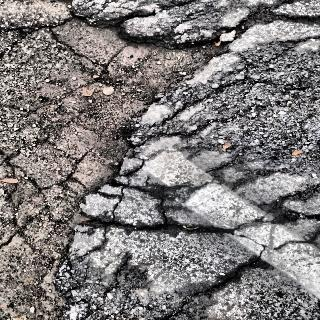alligator-crack: (0, 134, 151, 315)
crack: (153, 236, 320, 320), (95, 202, 320, 235), (0, 21, 108, 71)
